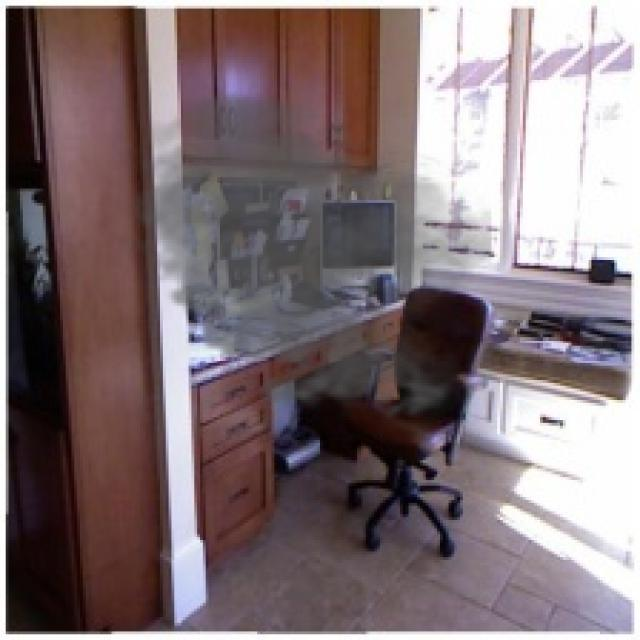Smoke: (114, 86, 492, 428)
